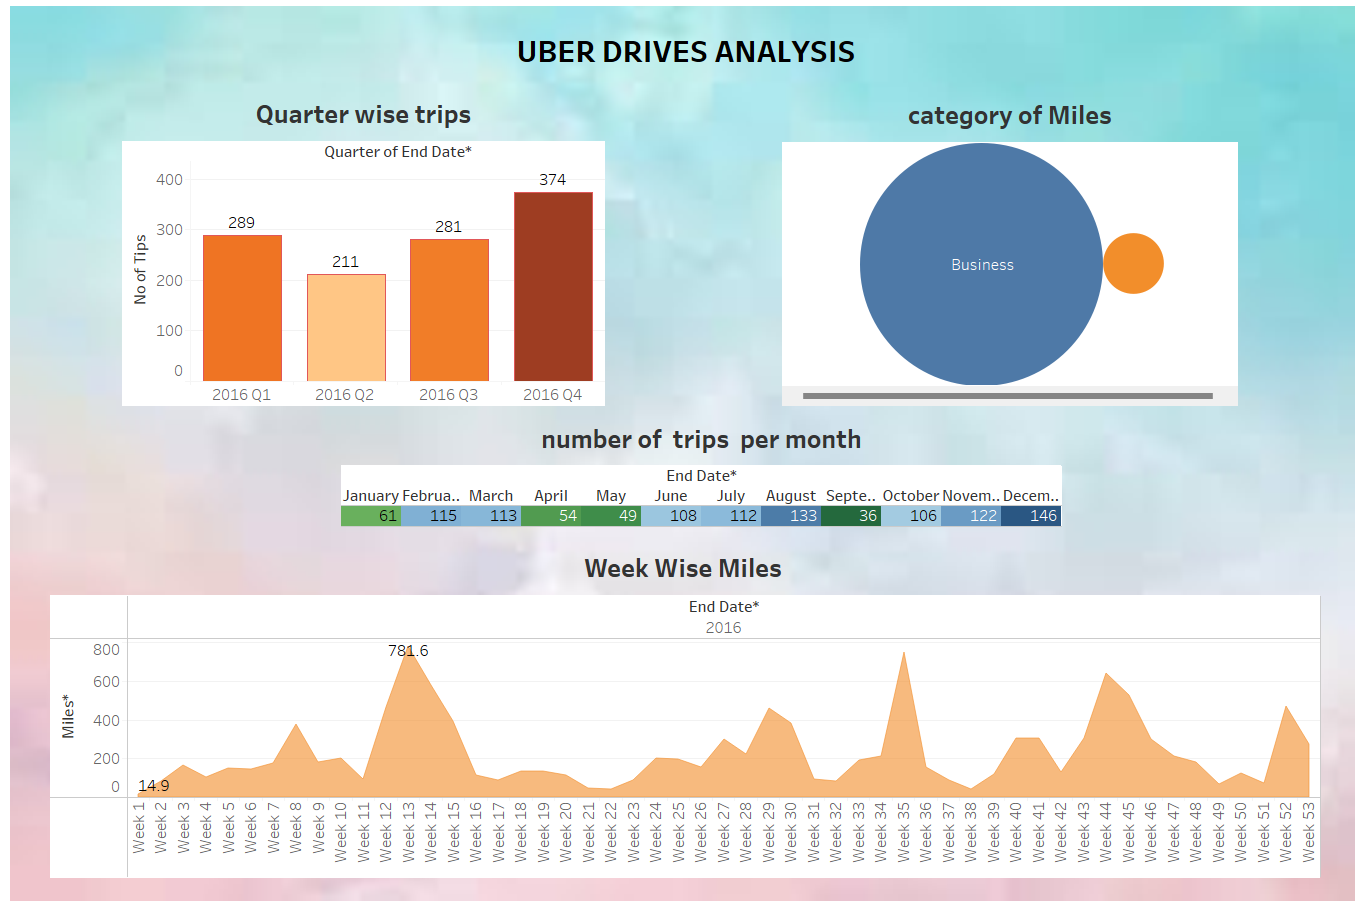

Layout of this report page (visuals, bound fields, positions):
{"tool":"tableau","page":{"name":"Dashboard 1","canvas":[1369,927],"ordinal":0},"visuals":[{"type":"image","param":"C:/Users/praka/Desktop/download.jfif","box":[8,8,1353,911]},{"type":"text","box":[480,27,416,65]},{"type":"worksheet","title":"Sheet 8","mark":"Bar","rows":["Calculation_609956275937161218"],"cols":["END_DATE*"],"box":[124,102,483,314]},{"type":"worksheet","title":"Sheet 3","mark":"Circle","box":[784,103,456,313]},{"type":"worksheet","title":"Sheet 7","mark":"Square","cols":["END_DATE*"],"box":[343,427,738,126]},{"type":"worksheet","title":"Sheet 5","mark":"Area","rows":["MILES*"],"cols":["END_DATE*","END_DATE*"],"box":[52,556,1271,332]}]}

Visuals, with their boxes in screenshot pixels (x1, y1, x2, y2), scaled from the page's 1369x927 canvas onto the 1362x906 screenshot:
image: bbox=[8, 8, 1354, 898]
text: bbox=[478, 26, 891, 90]
"Sheet 8" worksheet (Bar marks): bbox=[123, 100, 604, 407]
"Sheet 3" worksheet (Circle marks): bbox=[780, 101, 1234, 407]
"Sheet 7" worksheet (Square marks): bbox=[341, 417, 1075, 540]
"Sheet 5" worksheet (Area marks): bbox=[52, 543, 1316, 868]
